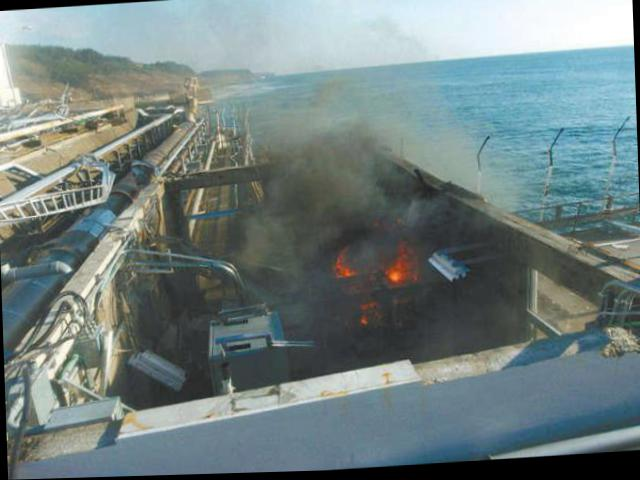fire: (399, 245, 418, 282), (388, 264, 406, 285), (338, 260, 352, 278)
smoke: (205, 0, 520, 225), (221, 230, 330, 320)
